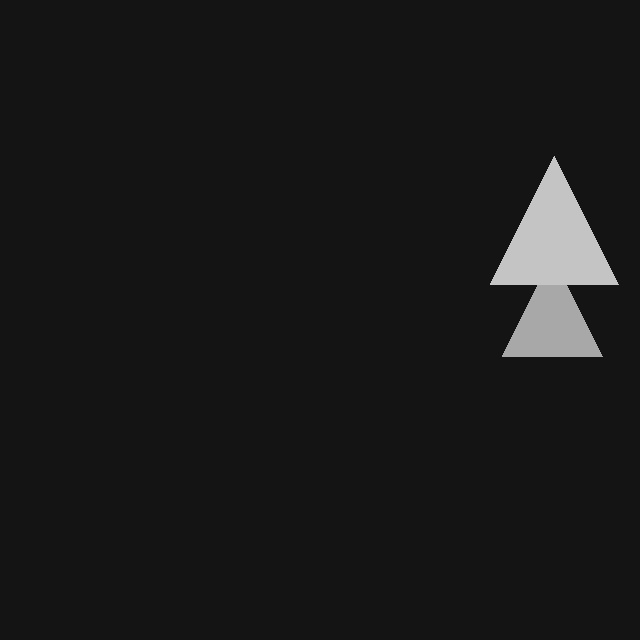triangle: (490, 156, 618, 284), (502, 256, 602, 356)
